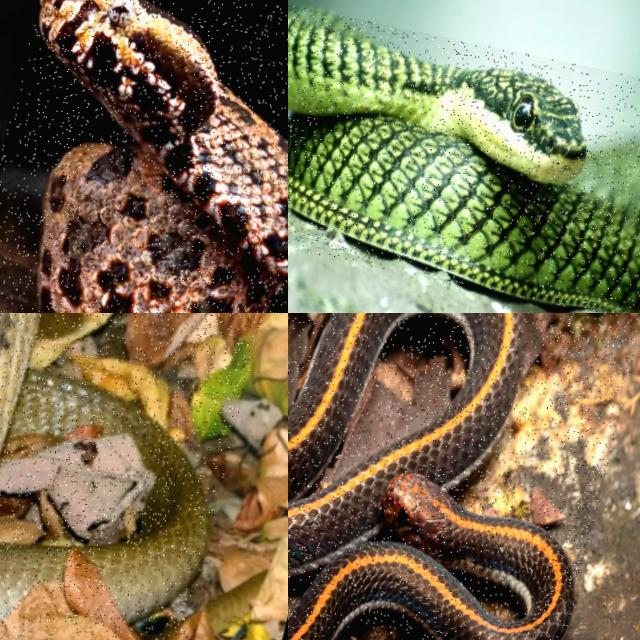Calliophis intestinalis: (288, 313, 573, 639)
Chrysopelea ornata: (288, 9, 639, 312)
Naja siamensis: (0, 313, 208, 622)
Ovophis monticola: (37, 0, 287, 312)
snake: (288, 9, 639, 312), (288, 313, 573, 639), (37, 0, 287, 312), (0, 313, 208, 622)
